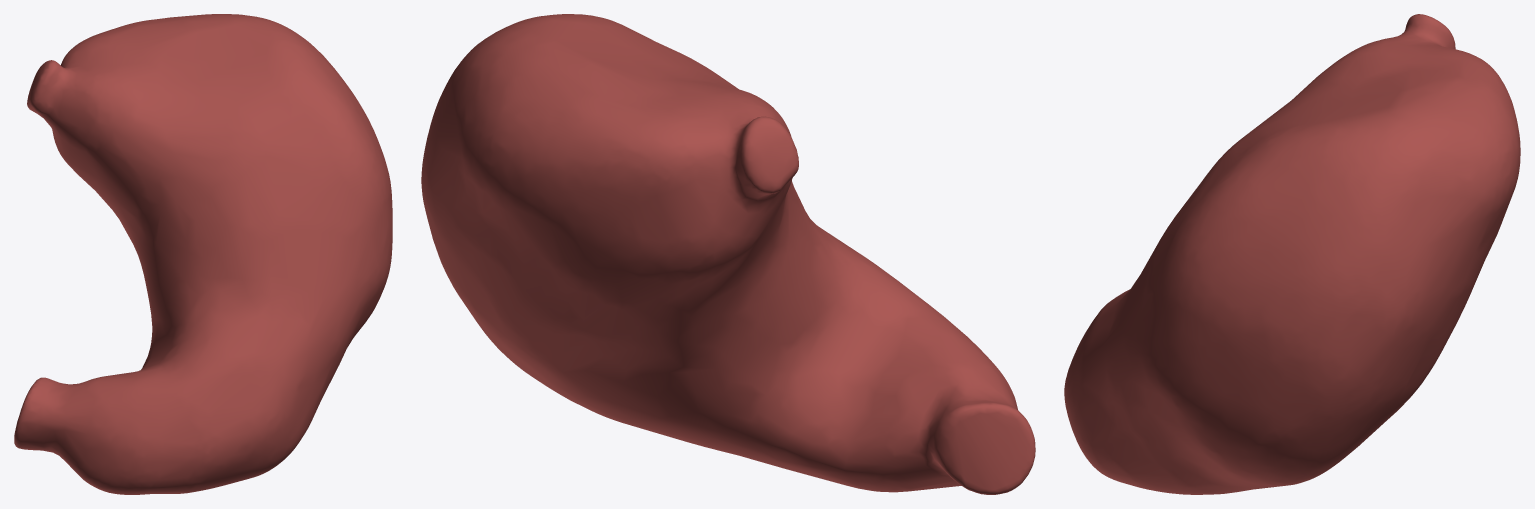
The model's file is FMA7148.glb.
3 views of the same model, side by side, from view 1: azimuth 30°, elevation 25°; view 2: azimuth 150°, elevation 25°; view 3: azimuth 270°, elevation 25° (orthographic). The views are drawn at different scales.
Parts seen in each view (by area): view 1: FMA7148; view 2: FMA7148; view 3: FMA7148.
Part boxes in pixels (x1,y1,x2,y2): FMA7148: (14, 14, 392, 494); FMA7148: (421, 14, 1035, 494); FMA7148: (1064, 14, 1520, 494).
Size of the model in its own units: 0.1417 by 0.1202 by 0.1152.
